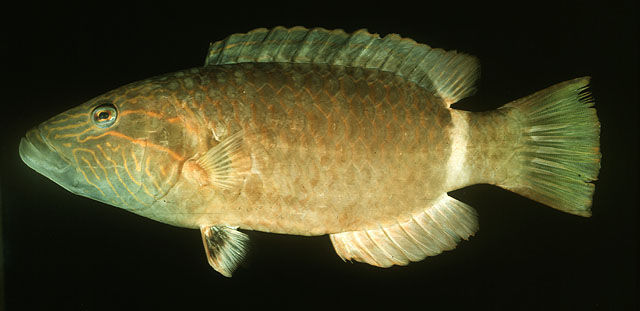fish: (18, 27, 602, 278)
